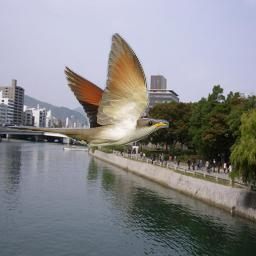Cuckoo: (6, 33, 169, 146)
